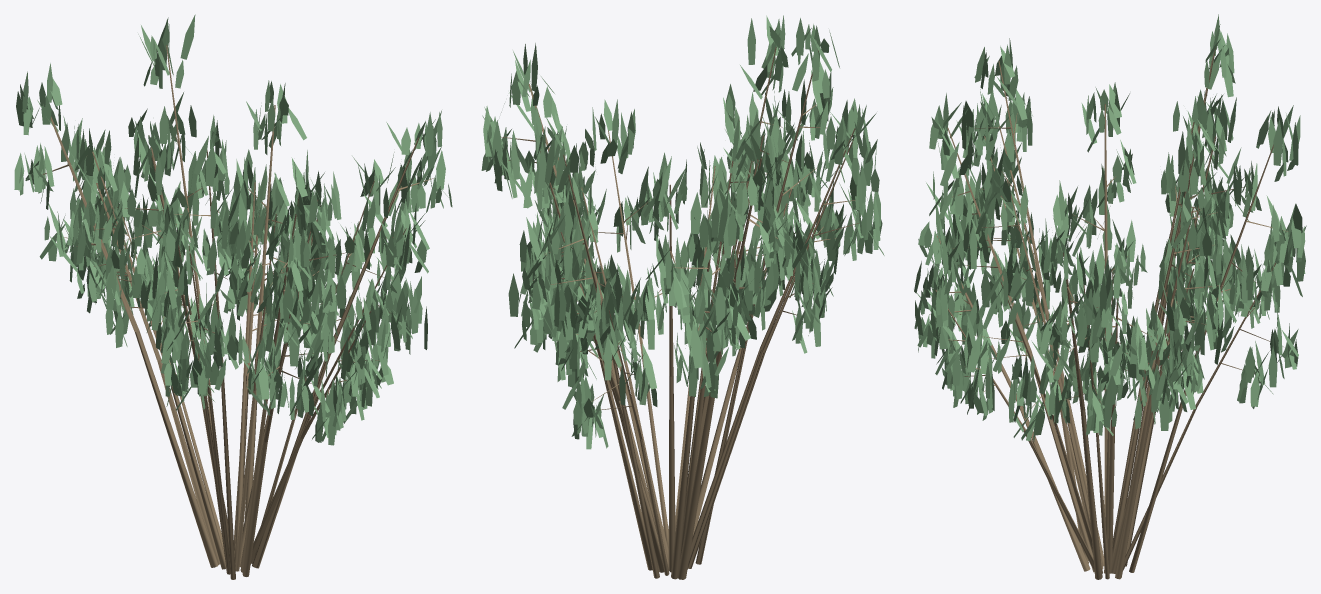
Rendered from willow.glb.
3 views of the same model, side by side, from view 1: azimuth 30°, elevation 25°; view 2: azimuth 150°, elevation 25°; view 3: azimuth 270°, elevation 25° (orthographic). The views are drawn at different scales.
Parts seen in each view (by area): view 1: willow_lod0; view 2: willow_lod0; view 3: willow_lod0.
Boxes of the visible parts, box(x1,y1,x2,y2) form: willow_lod0: box(14, 14, 452, 579); willow_lod0: box(481, 15, 884, 579); willow_lod0: box(914, 14, 1306, 579).
Size of what is drawn, in the model's own units: 8.53 by 11.36 by 8.12.
